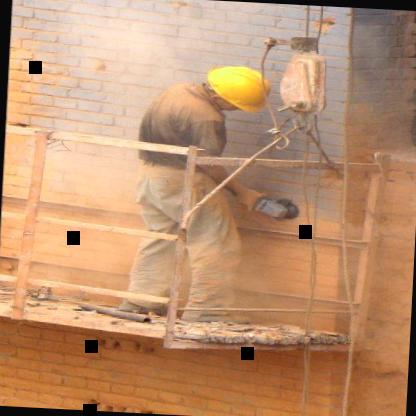helmet: (200, 59, 272, 114)
